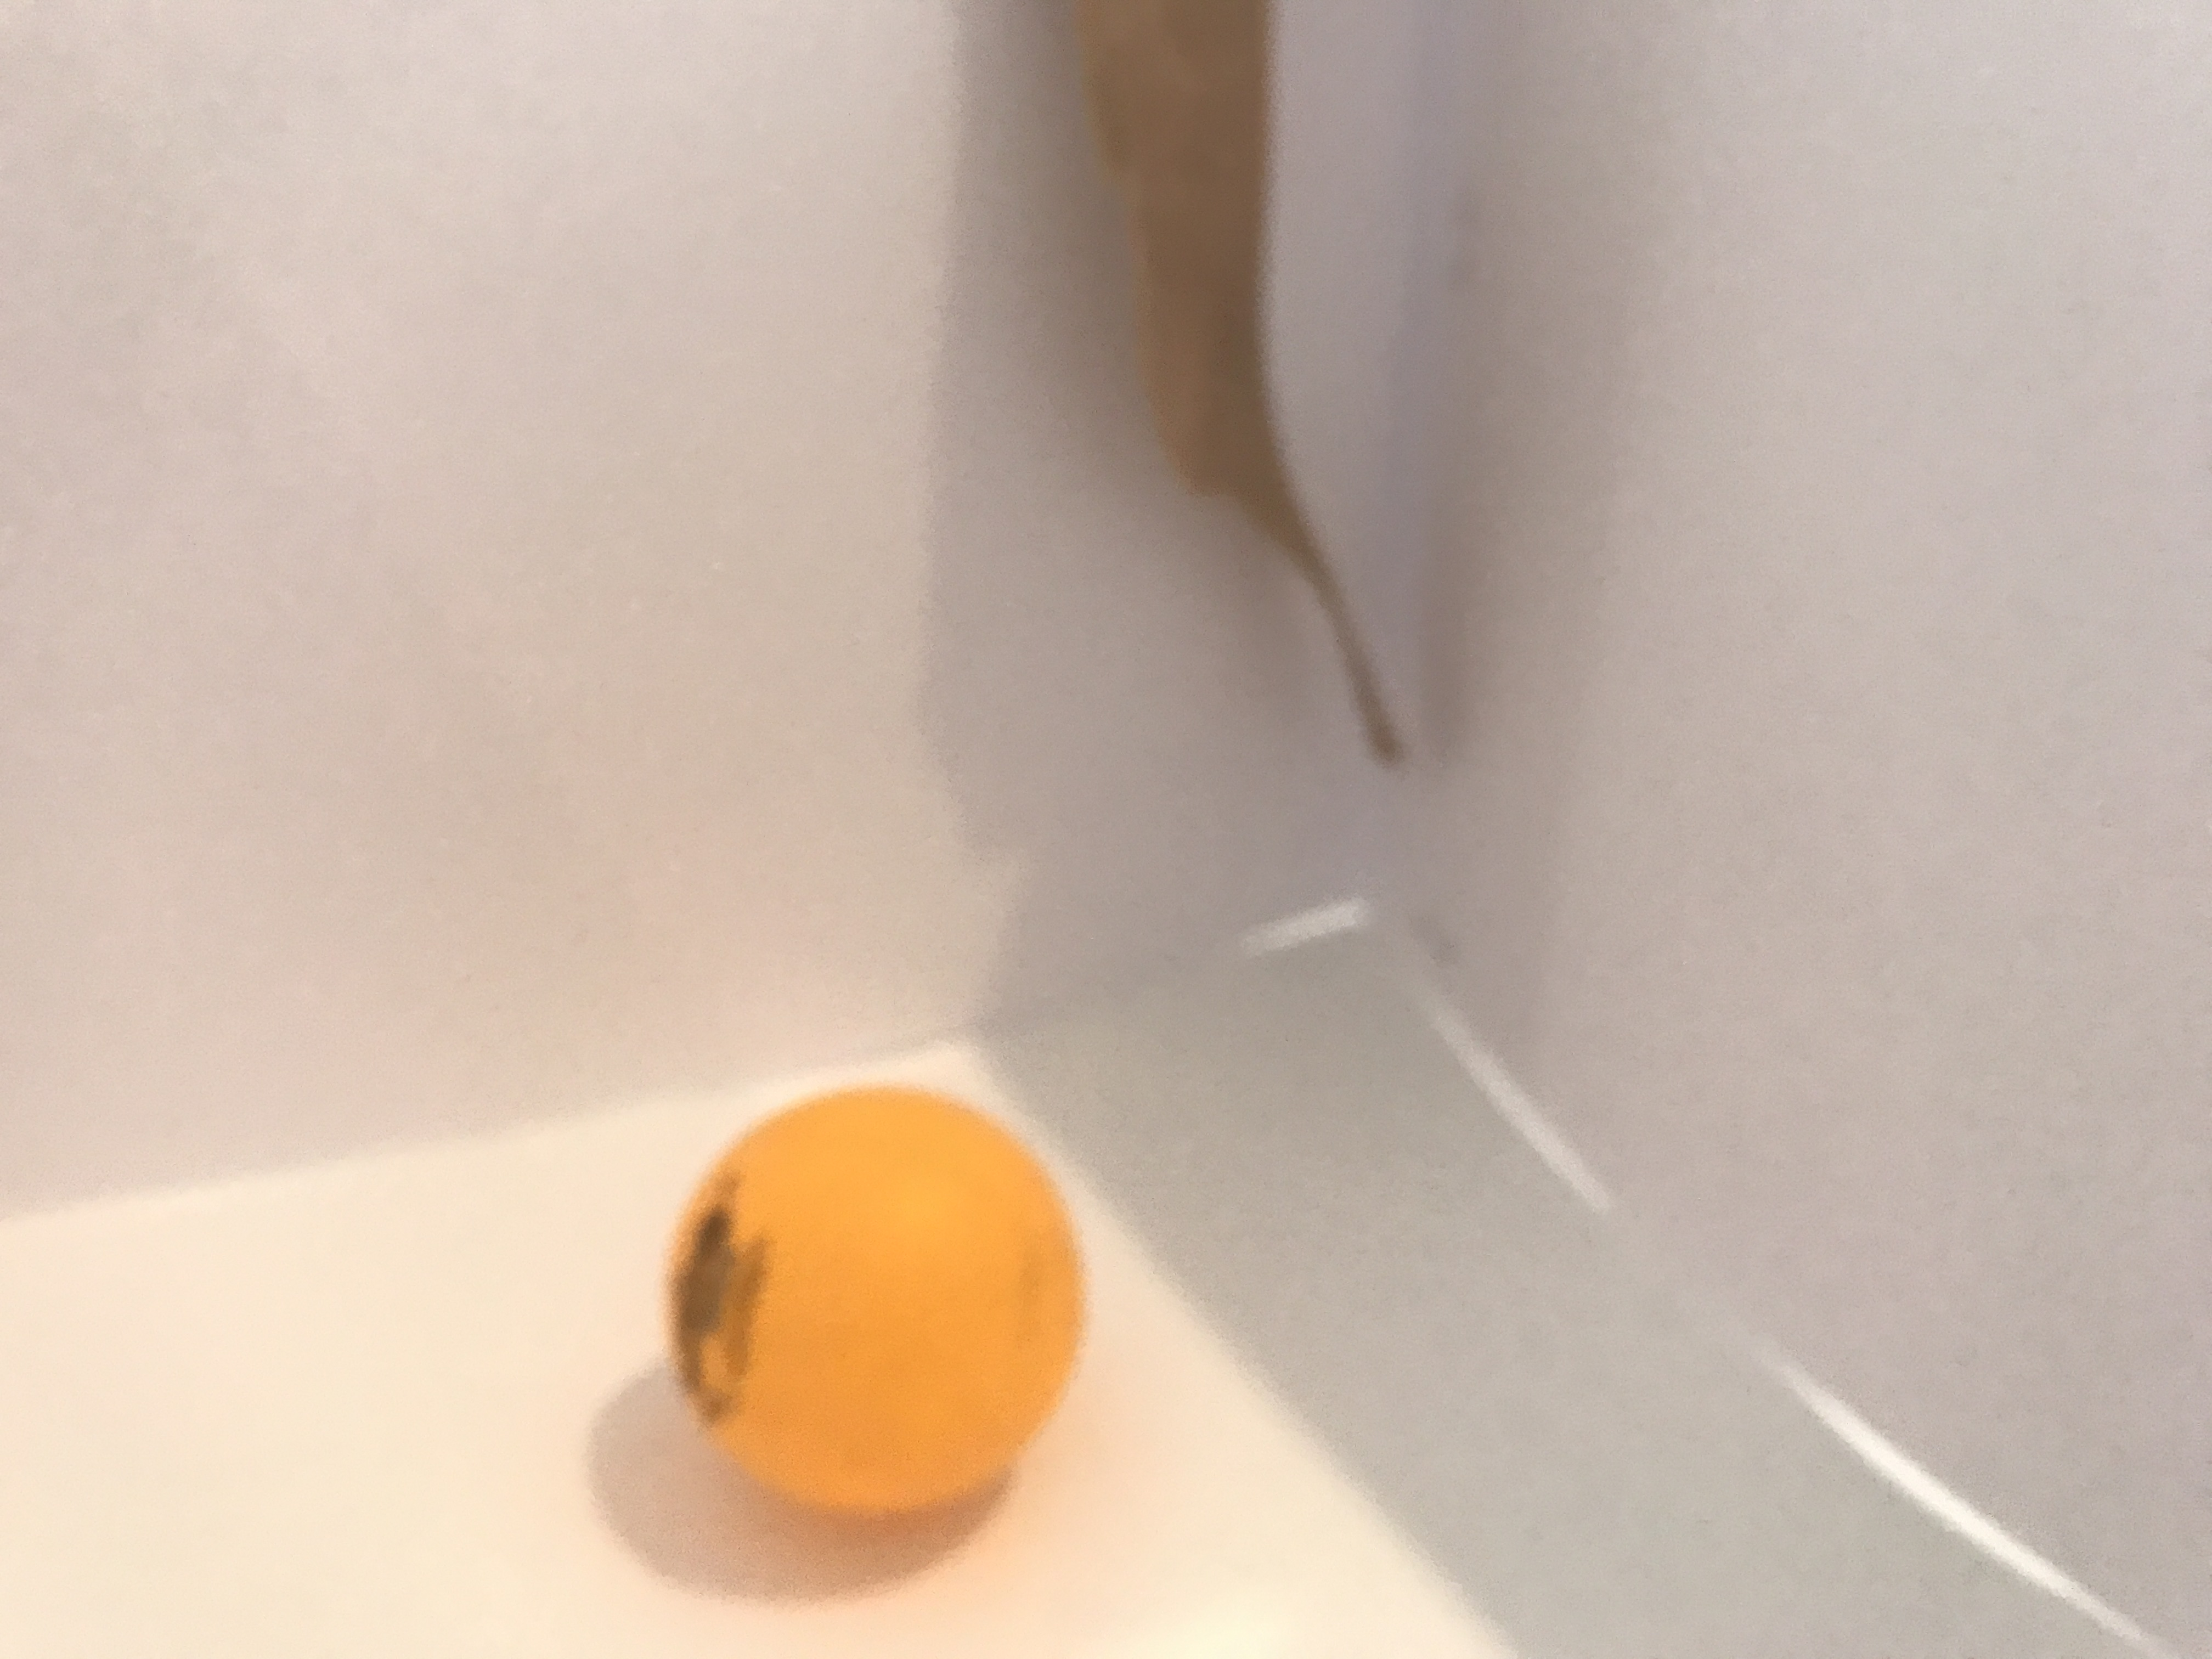pp: (634, 1077, 1087, 1534)
